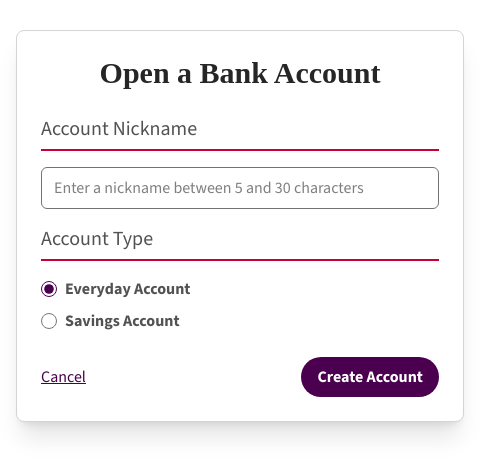
Scenario: CreateAccount integration test › should show validation errors for invalid nickname
# Enter invalid nickname (too short)
In the field labelled "Account Nickname": (240, 188) [41,167,439,209], type "ab"
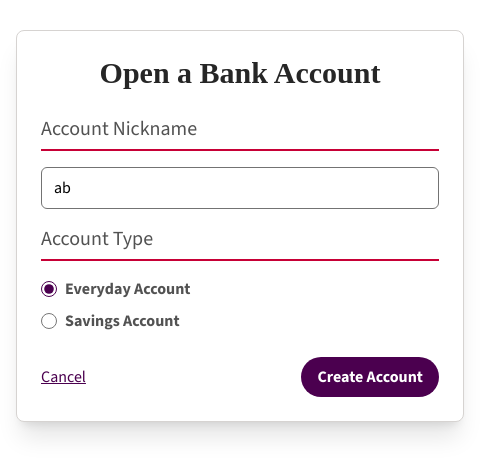
# Submit form
Click the button "Create Account": (370, 377) [301,357,439,397]
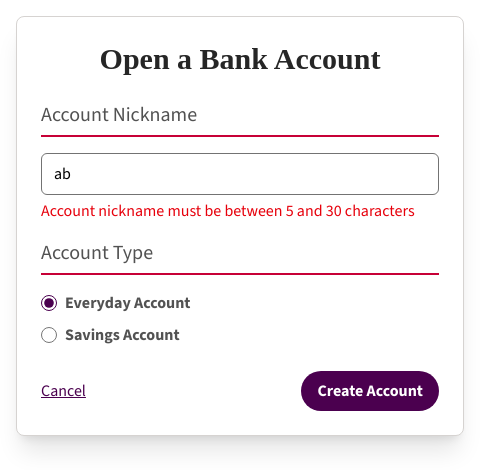
Check: the text "Account nickname must be between 5 and 30 characters" is shown, box [41,199,439,223]
